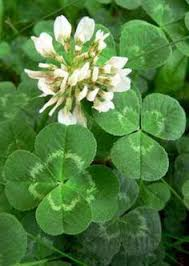4-clover: (6, 122, 120, 233)
